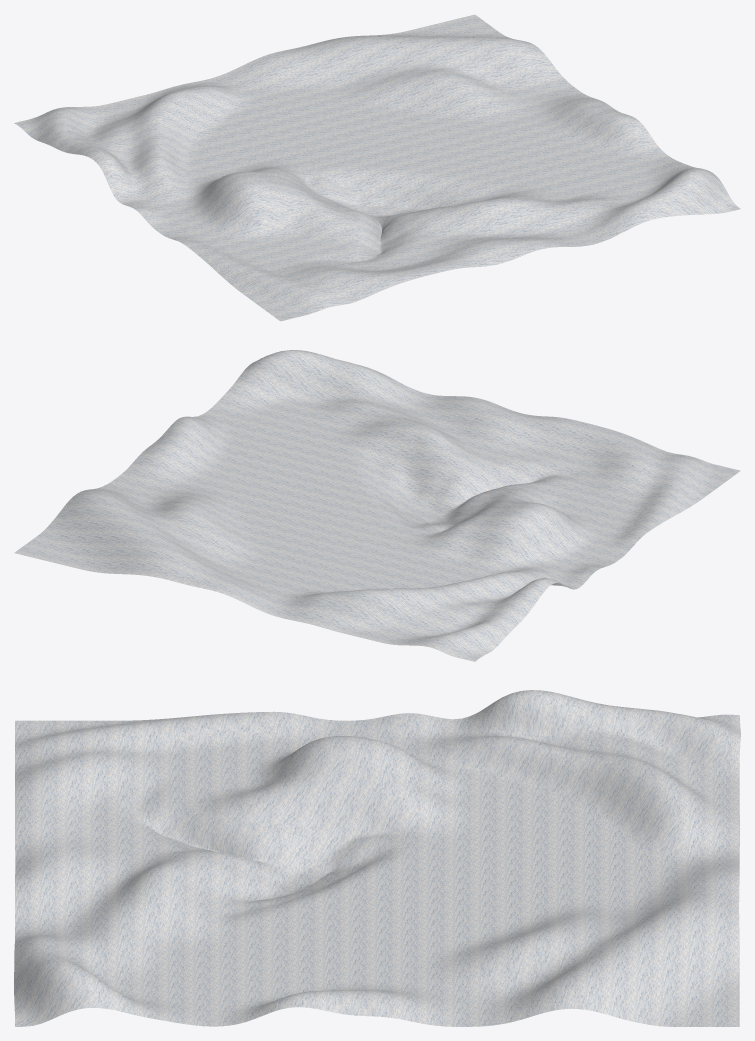
File: justground.obj
3 views of the same model, one above another, from view 1: azimuth 30°, elevation 25°; view 2: azimuth 150°, elevation 25°; view 3: azimuth 270°, elevation 25° (orthographic). The views are drawn at different scales.
Parts seen in each view (by area): view 1: Plane; view 2: Plane; view 3: Plane.
Boxes of the visible parts, left/top/right/bottom form: Plane: left=14, top=14, right=740, bottom=321; Plane: left=14, top=350, right=740, bottom=661; Plane: left=14, top=690, right=740, bottom=1026.
Bounding box in the file's own units: 72.26 × 6.96 × 72.24.
Materials: 1 (1 with a texture image).
